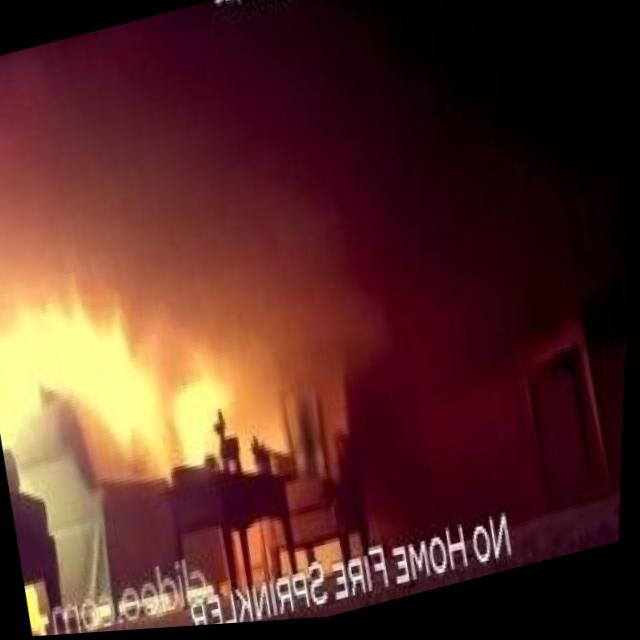fire: (0, 278, 168, 448), (75, 295, 180, 479), (168, 376, 231, 469)
